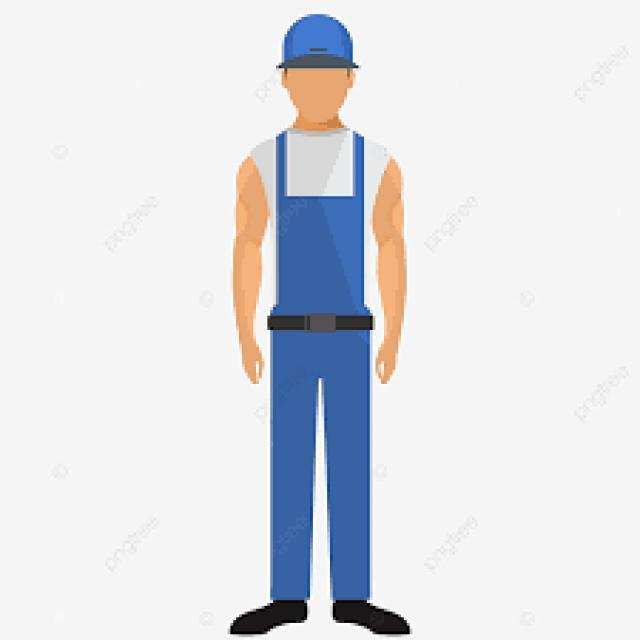safety_helmet: (273, 11, 361, 73)
